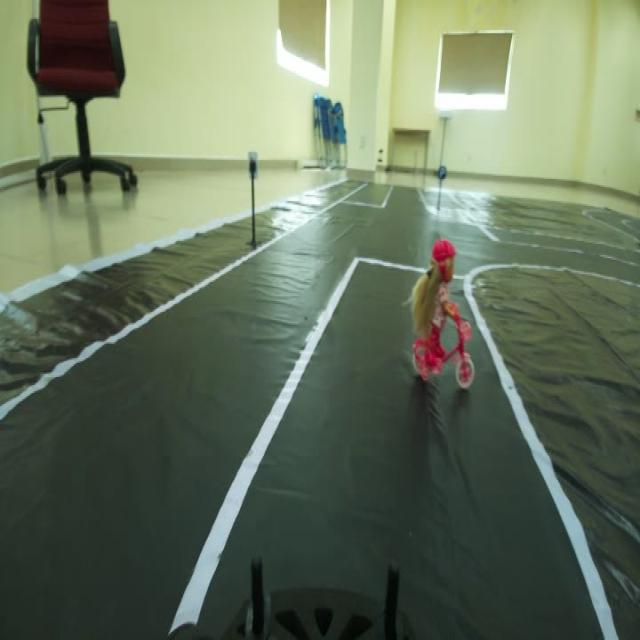pedestrian: (407, 234, 480, 394)
